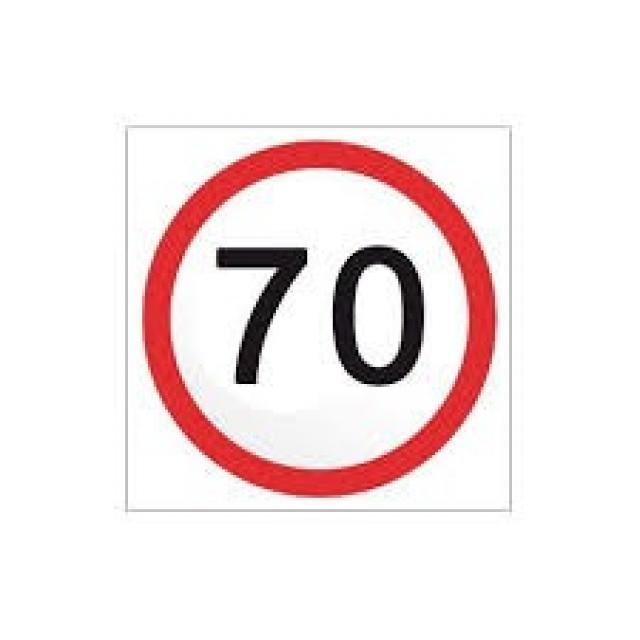speed_limit_70: (142, 137, 502, 500)
